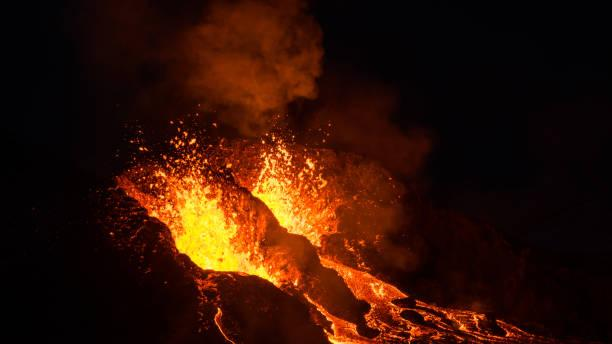Fire: (82, 86, 539, 338)
